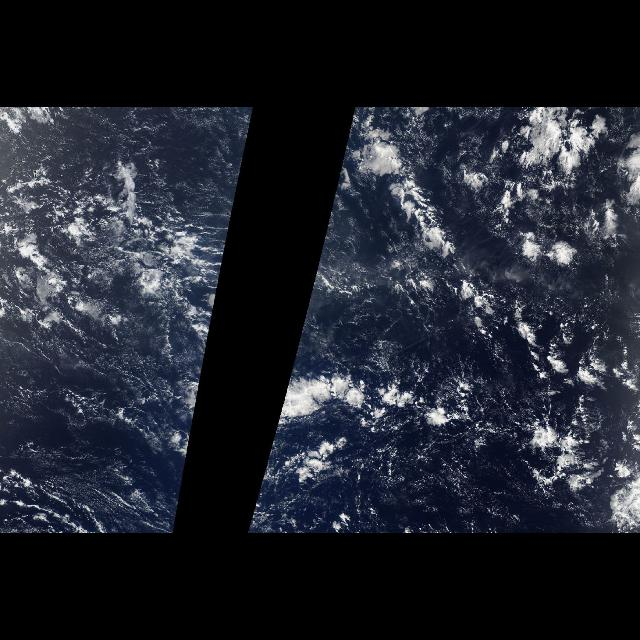Flower: (475, 114, 635, 270)
Gravel: (18, 128, 194, 434)
